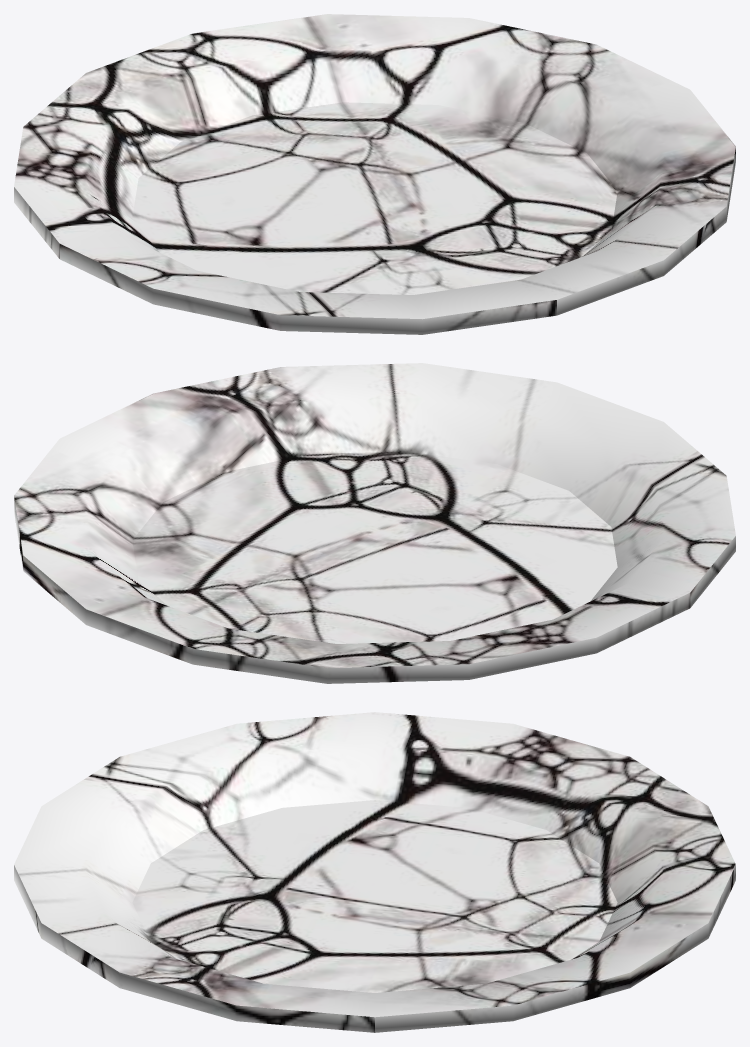
File: plate.fbx
The picture shows the model from 3 angles, top to bottom: view 1: azimuth 30°, elevation 25°; view 2: azimuth 150°, elevation 25°; view 3: azimuth 270°, elevation 25°; orthographic projection.
Visible parts, largest first — view 1: Plate; view 2: Plate; view 3: Plate.
Boxes of the visible parts, x1,y1,x2,y2 form: Plate: (14, 14, 735, 334); Plate: (14, 363, 735, 683); Plate: (14, 712, 735, 1032).
Bounding box in the file's own units: 30.01 × 2.29 × 30.01.
